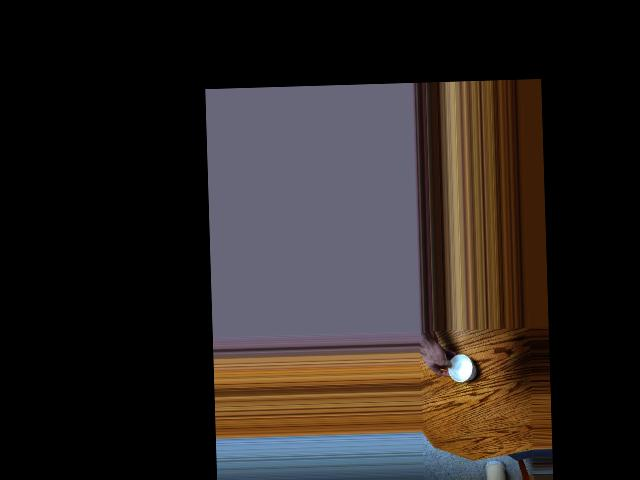cotage: (443, 349, 476, 386)
